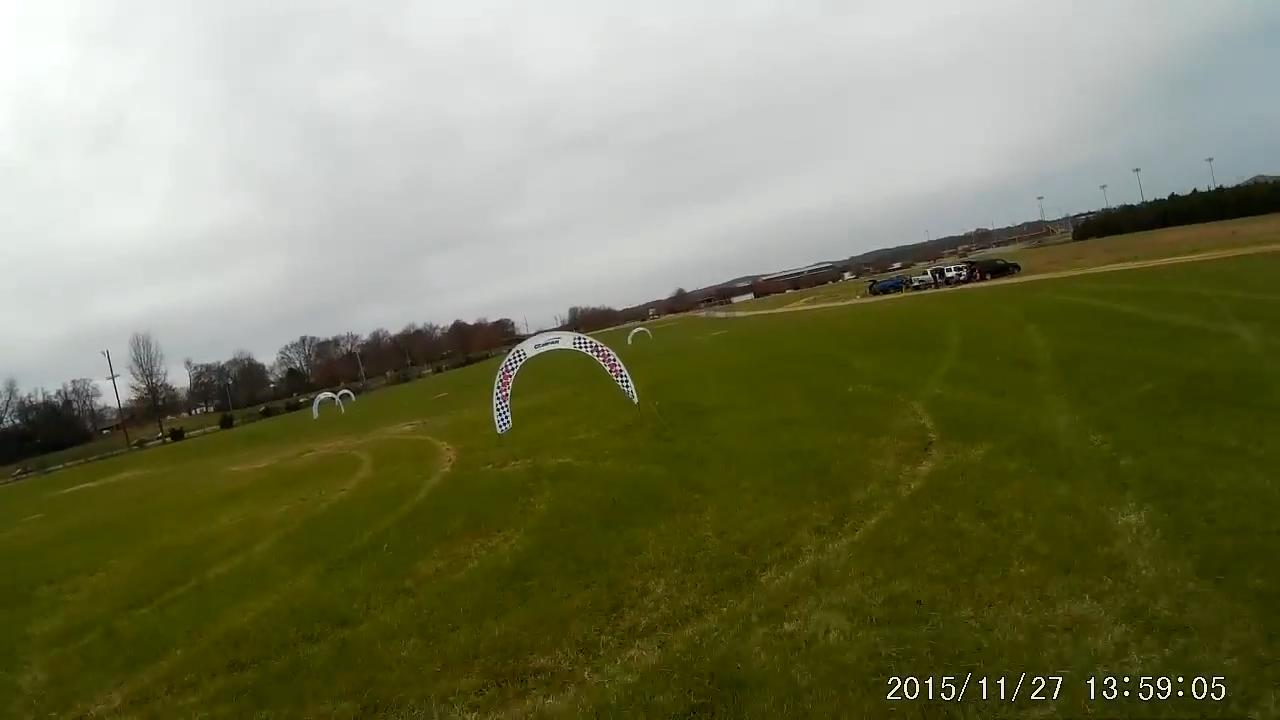gate: (492, 333, 641, 437)
